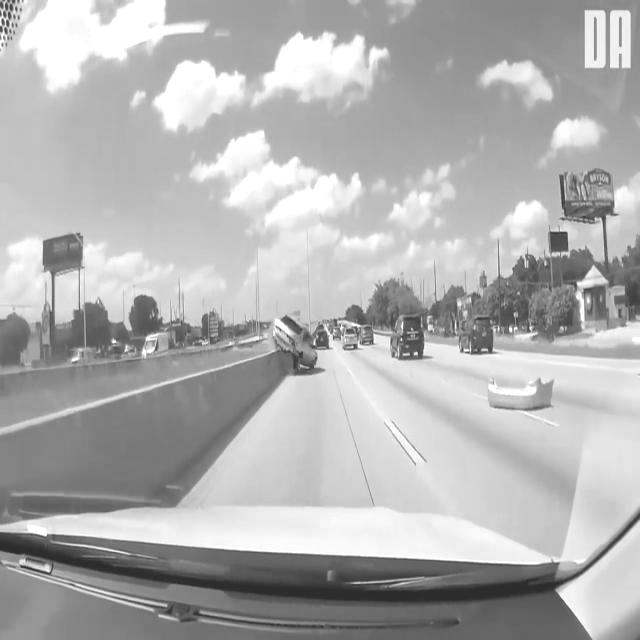accident: (262, 312, 318, 376)
non-accident: (389, 312, 496, 360), (67, 331, 171, 367), (318, 324, 374, 351)
